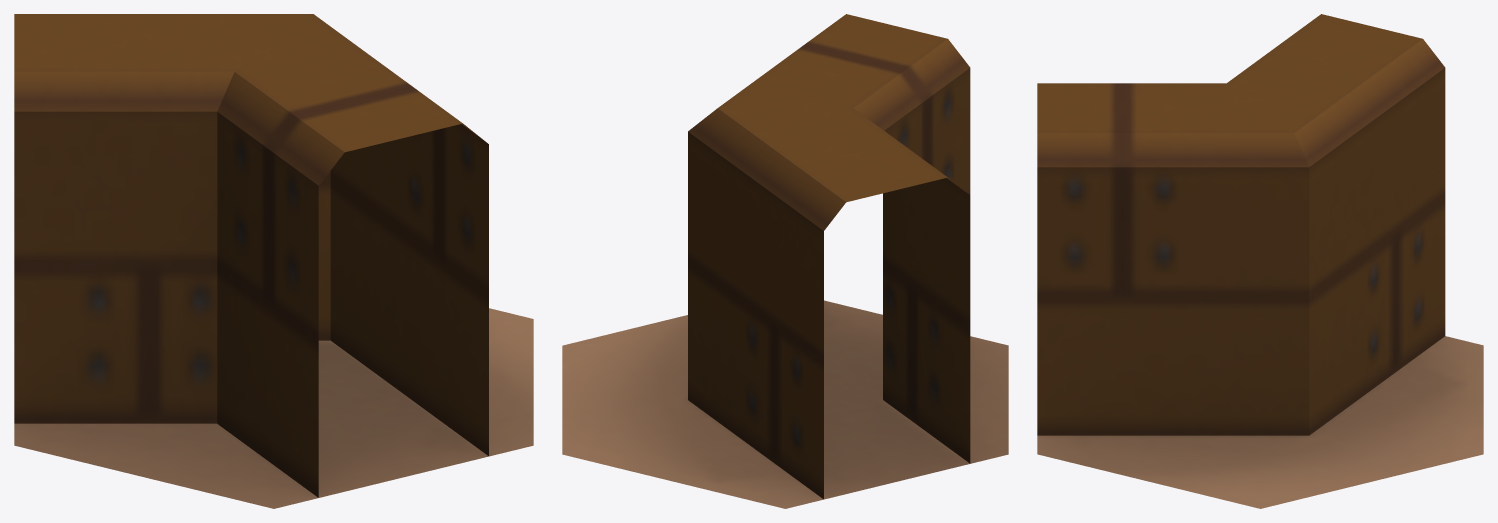
Rendered from Barriere_L1.FBX.
3 views of the same model, side by side, from view 1: azimuth 30°, elevation 25°; view 2: azimuth 150°, elevation 25°; view 3: azimuth 270°, elevation 25° (orthographic). The views are drawn at different scales.
Parts seen in each view (by area): view 1: Barriere_L1; view 2: Barriere_L1; view 3: Barriere_L1.
Boxes of the visible parts, x1,y1,x2,y2 form: Barriere_L1: (14,14,533,508); Barriere_L1: (562,14,1008,508); Barriere_L1: (1037,14,1483,508).
Bounding box in the file's own units: 1 × 0.6247 × 0.8661.
